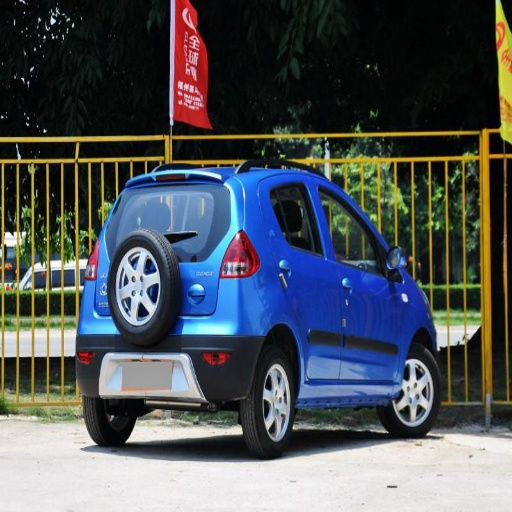back_bumper: (97, 278, 266, 400)
back_right_door: (275, 180, 341, 388)
trunk: (180, 244, 228, 312)
